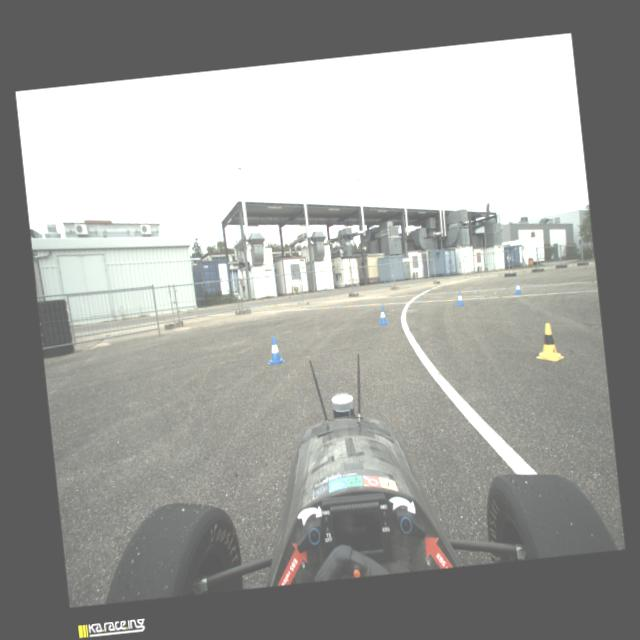blue_cone: (266, 336, 284, 366), (376, 306, 388, 326), (455, 290, 465, 306), (512, 280, 522, 294)
yellow_cone: (532, 322, 564, 363)
